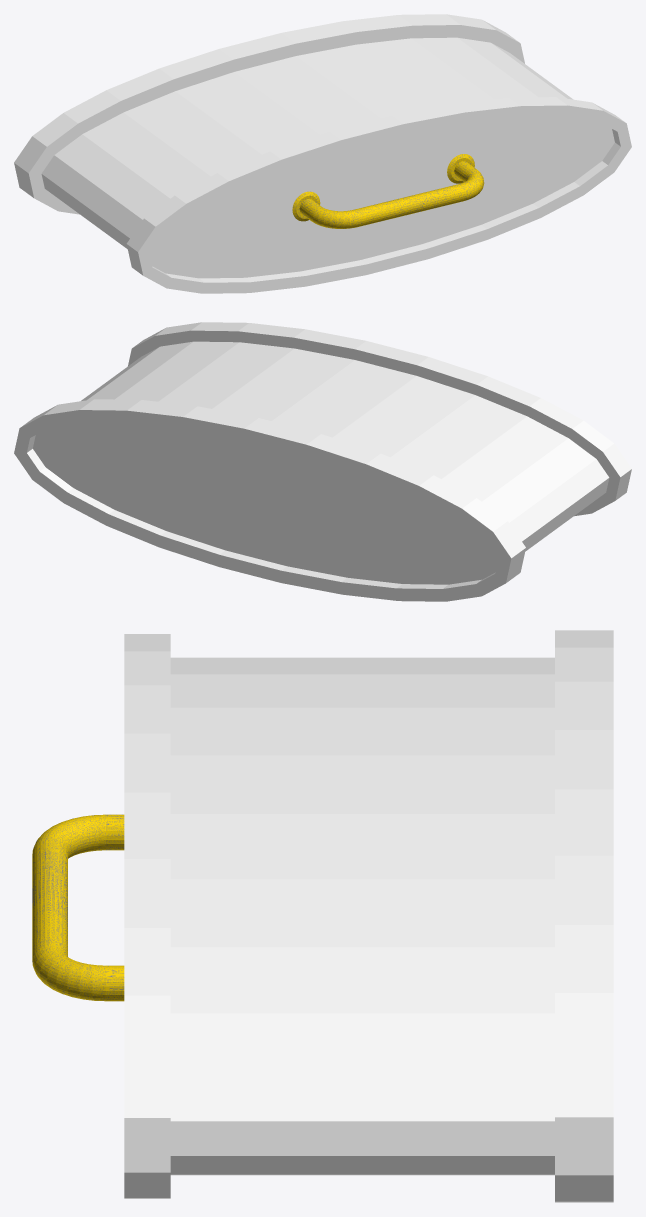
The picture shows the model from 3 angles, top to bottom: view 1: azimuth 30°, elevation 25°; view 2: azimuth 150°, elevation 25°; view 3: azimuth 270°, elevation 25°; orthographic projection. The views are drawn at different scales.
Parts seen in each view (by area): view 1: louis vuitton little leather bag; view 2: louis vuitton little leather bag; view 3: louis vuitton little leather bag.
Boxes of the visible parts, x1=… form: louis vuitton little leather bag: x1=14, y1=14, x2=631, y2=293; louis vuitton little leather bag: x1=14, y1=322, x2=631, y2=601; louis vuitton little leather bag: x1=32, y1=630, x2=613, y2=1202.
Bounding box in the file's own units: 285 × 79.49 × 144.
